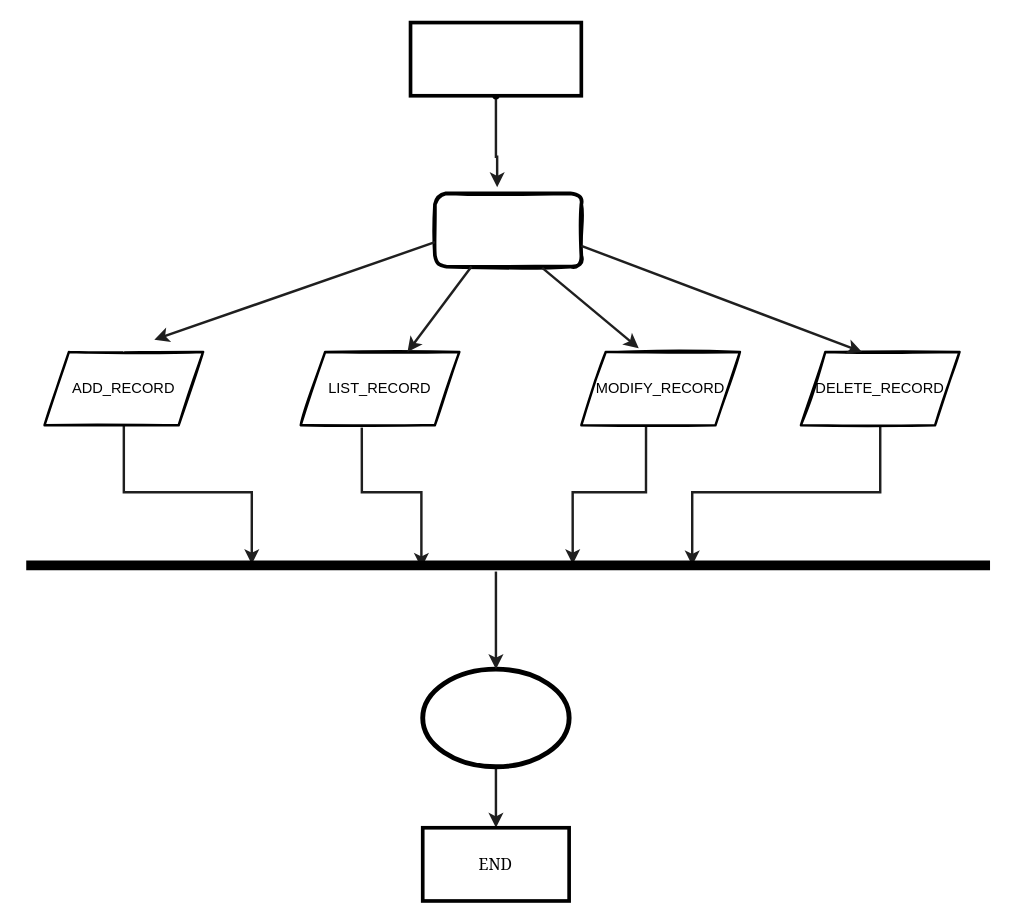
Some shapes in this 1015 by 924 pixel diagram are drawn without their labels. The shapes that lost their labels are listed below. From the top down, each one's centre as x and y in pixels, then its label:
[495,58]: START
[507,229]: CHOICE
[495,717]: EXIT
